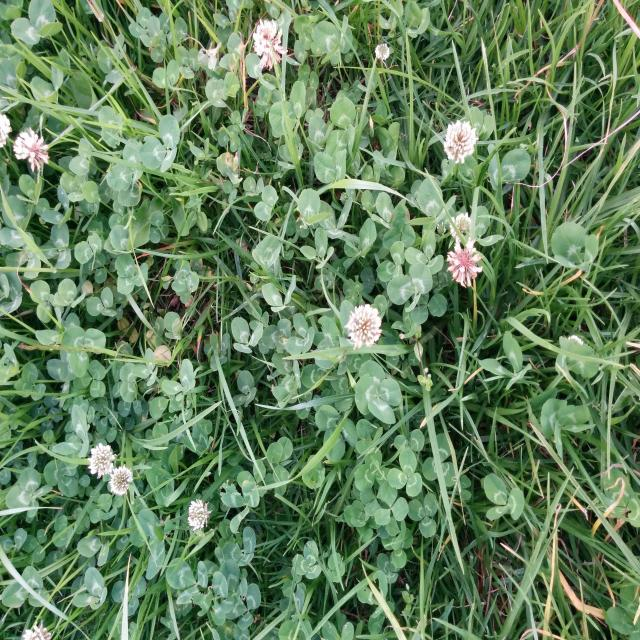Four Leaf Clover: (355, 360, 402, 424)
